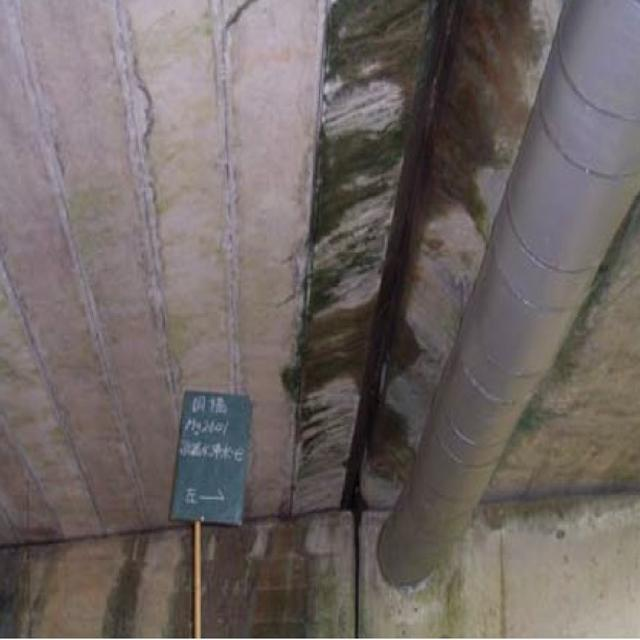leakage: (322, 8, 512, 486)
